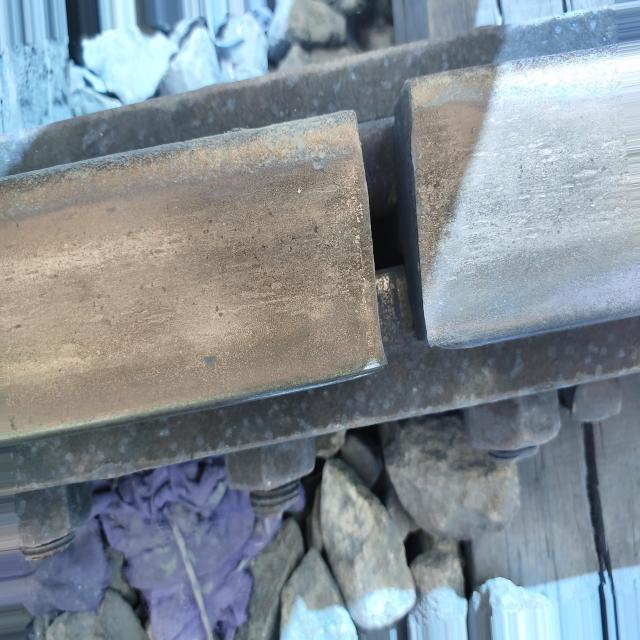crack: (311, 71, 492, 402)
